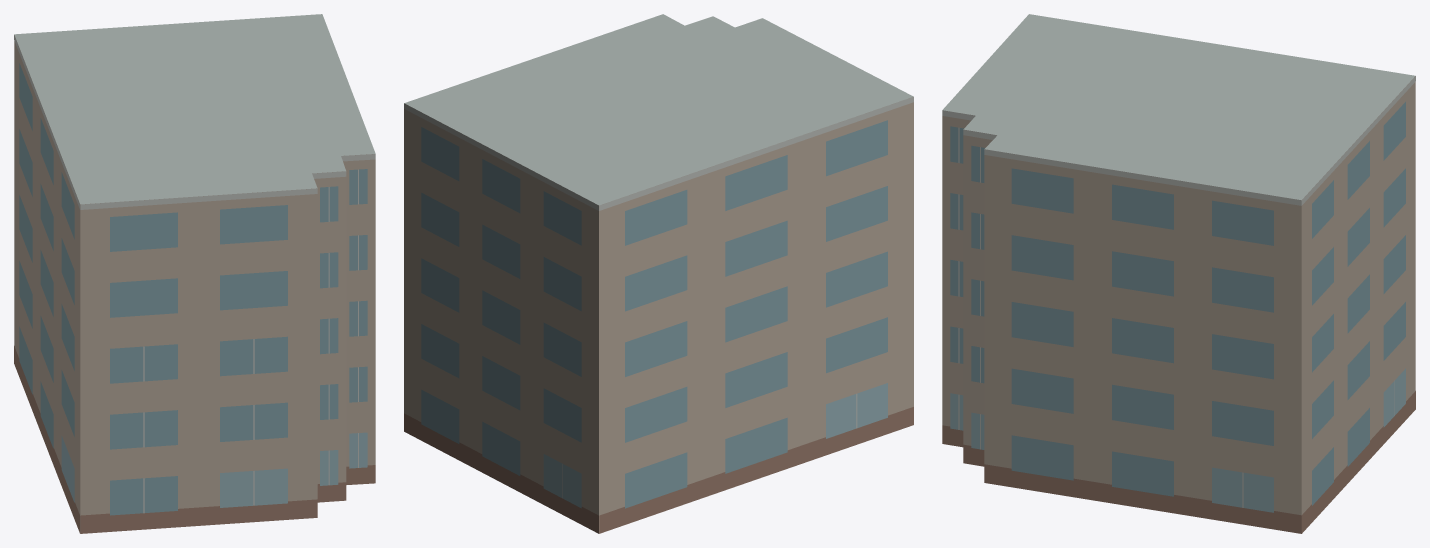
Rendered from survey-upis-32973985.glb.
The picture shows the model from 3 angles, left to right: view 1: azimuth 30°, elevation 25°; view 2: azimuth 150°, elevation 25°; view 3: azimuth 270°, elevation 25°; orthographic projection.
Parts seen in each view (by area): view 1: survey-upis-32973985.tmp; view 2: survey-upis-32973985.tmp; view 3: survey-upis-32973985.tmp.
Part boxes in pixels (x1,y1,x2,y2): survey-upis-32973985.tmp: [14, 14, 375, 533]; survey-upis-32973985.tmp: [404, 14, 913, 533]; survey-upis-32973985.tmp: [942, 14, 1415, 533].
Bounding box in the file's own units: 17.18 × 14.35 × 18.47.
